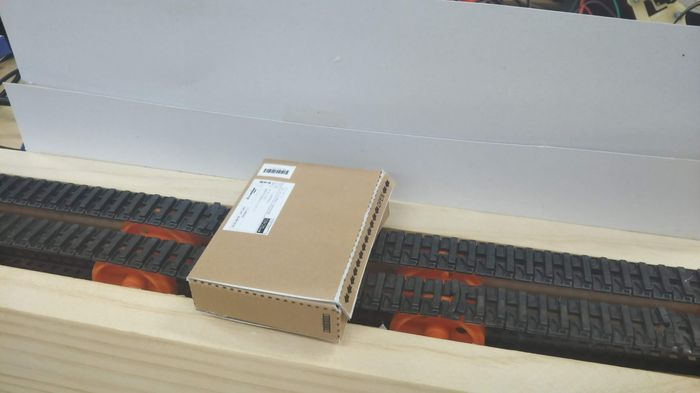box2: (184, 151, 396, 340)
